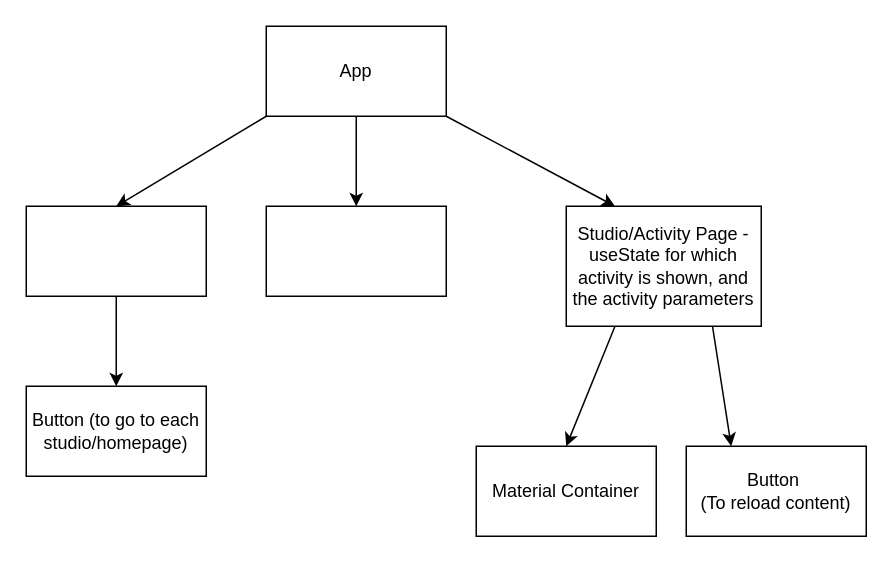
Some shapes in this 893 by 563 pixel diagram are drawn without their labels. Here are the shapes that lost their labels. From the top down, the centre of each, then its label:
(115,250): Navigation Bar
(355,250): Homepage
